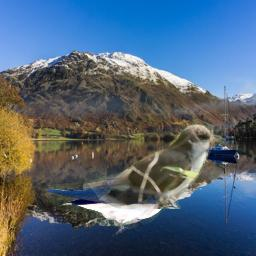Cuckoo: (83, 123, 225, 209)
Swallow: (44, 164, 187, 235)
